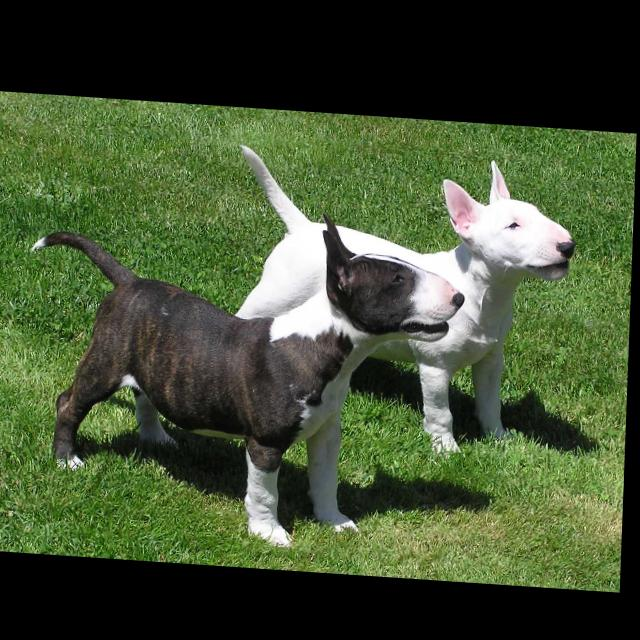bullterrier: (27, 194, 470, 555), (231, 139, 581, 460)
